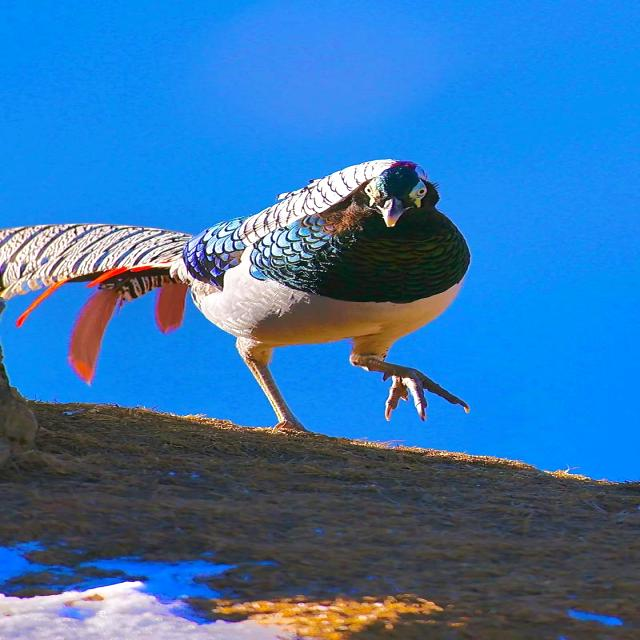Chrysolophus amherstiae: (0, 224, 191, 299)
